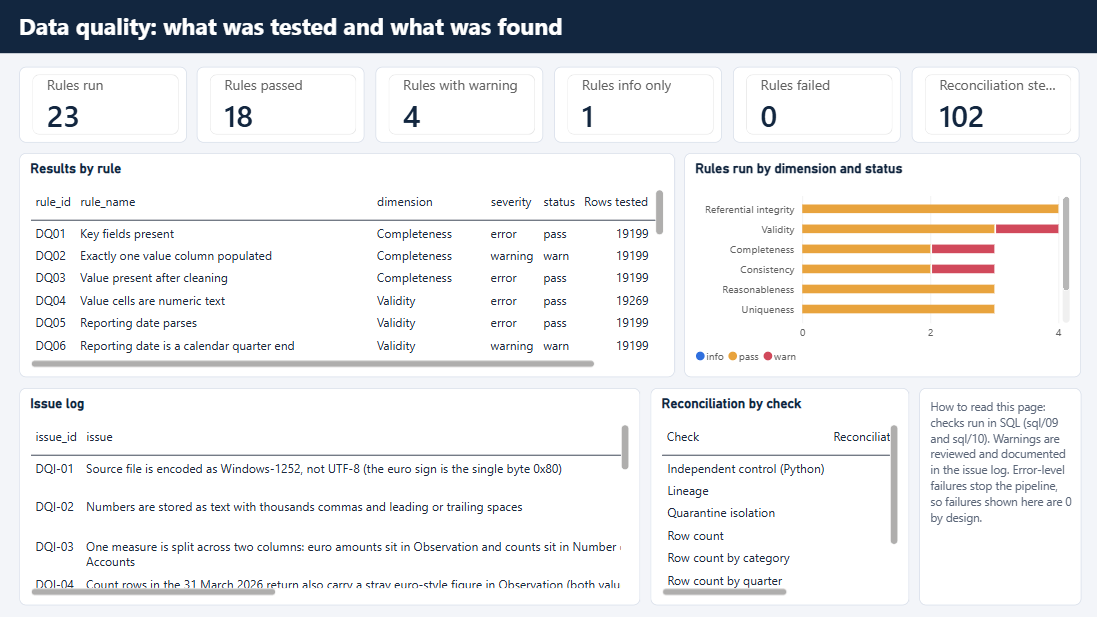

This screenshot's page, from the dashboard's own definition file:
{"tool":"powerbi","page":{"name":"Data quality","canvas":[1280,720],"ordinal":2},"visuals":[{"type":"textbox","box":[0,0,1280,64],"z":0},{"type":"cardVisual","fields":{"Data":["_Measures.DQ Rules Run"]},"box":[24,80,194,88],"z":1},{"type":"cardVisual","fields":{"Data":["_Measures.DQ Rules Passed"]},"box":[231,80,194,88],"z":2},{"type":"cardVisual","fields":{"Data":["_Measures.DQ Rules Warning"]},"box":[438,80,194,88],"z":3},{"type":"cardVisual","fields":{"Data":["_Measures.DQ Rules Info"]},"box":[645,80,194,88],"z":4},{"type":"cardVisual","fields":{"Data":["_Measures.DQ Rules Failed"]},"box":[852,80,194,88],"z":5},{"type":"cardVisual","fields":{"Data":["_Measures.Reconciliation Matched"]},"box":[1059,80,194,88],"z":6},{"type":"tableEx","title":"Results by rule","fields":{"Values":["dq_rule.rule_id","dq_rule.rule_name","dq_rule.dimension","dq_rule.severity","dq_check_result.status","dq_check_result.rows_tested","dq_check_result.rows_failed"]},"box":[24,180,760,260],"z":7},{"type":"barChart","title":"Rules run by dimension and status","fields":{"Category":["dq_rule.dimension"],"Series":["dq_check_result.status"],"Y":["_Measures.DQ Rules Run"]},"box":[796,180,460,260],"z":8},{"type":"tableEx","title":"Issue log","fields":{"Values":["dq_issue_log.issue_id","dq_issue_log.issue","Sum(dq_issue_log.rows_affected)","dq_issue_log.severity","dq_issue_log.resolution","dq_issue_log.status"]},"box":[24,452,720,252],"z":9},{"type":"tableEx","title":"Reconciliation by check","fields":{"Values":["dq_reconciliation.check_name","_Measures.Reconciliation Steps","_Measures.Reconciliation Matched"]},"box":[756,452,300,252],"z":10},{"type":"textbox","box":[1068,452,188,252],"z":11}]}

Visuals, with their boxes in screenshot pixels (x1, y1, x2, y2), scaled from the page's 1280x720 canvas onto the 1097x617 screenshot:
textbox: bbox(0, 0, 1096, 55)
cardVisual - _Measures.DQ Rules Run: bbox(21, 69, 187, 144)
cardVisual - _Measures.DQ Rules Passed: bbox(198, 69, 364, 144)
cardVisual - _Measures.DQ Rules Warning: bbox(375, 69, 542, 144)
cardVisual - _Measures.DQ Rules Info: bbox(553, 69, 719, 144)
cardVisual - _Measures.DQ Rules Failed: bbox(730, 69, 896, 144)
cardVisual - _Measures.Reconciliation Matched: bbox(908, 69, 1074, 144)
"Results by rule" tableEx: bbox(21, 154, 672, 377)
"Rules run by dimension and status" barChart: bbox(682, 154, 1076, 377)
"Issue log" tableEx: bbox(21, 387, 638, 603)
"Reconciliation by check" tableEx: bbox(648, 387, 905, 603)
textbox: bbox(915, 387, 1076, 603)
